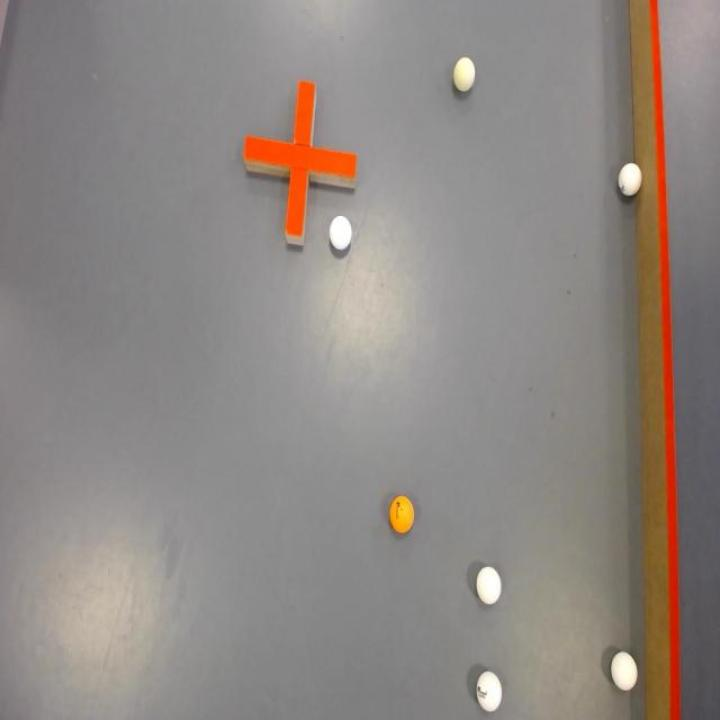orange: (385, 494, 417, 535)
white: (472, 668, 509, 712), (474, 563, 504, 604), (610, 647, 639, 689), (452, 56, 477, 97), (616, 162, 644, 198), (330, 213, 353, 255)
